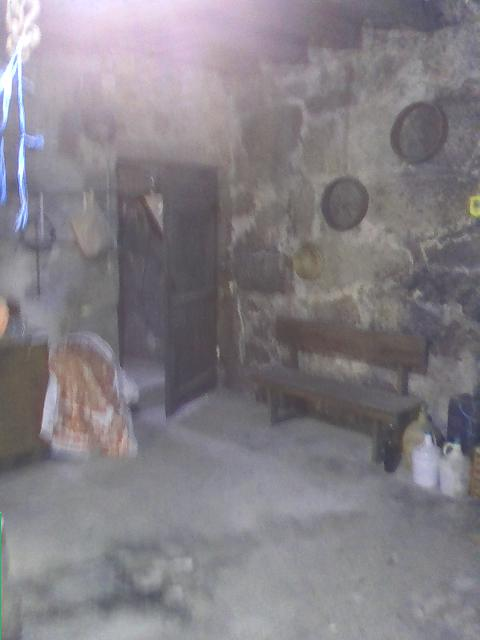semi_door: (118, 155, 225, 422)
